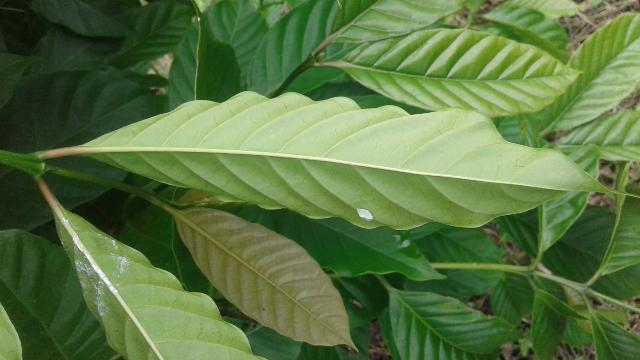healthy: (80, 88, 640, 235)
